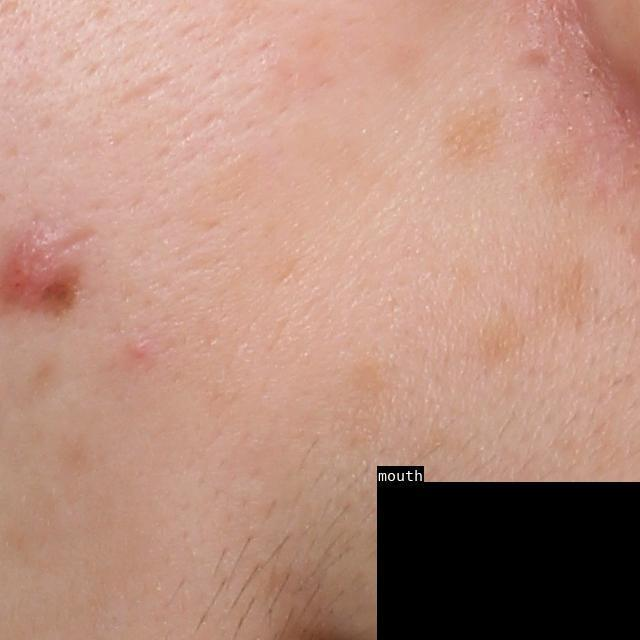atrophic_scar: (513, 44, 554, 74)
